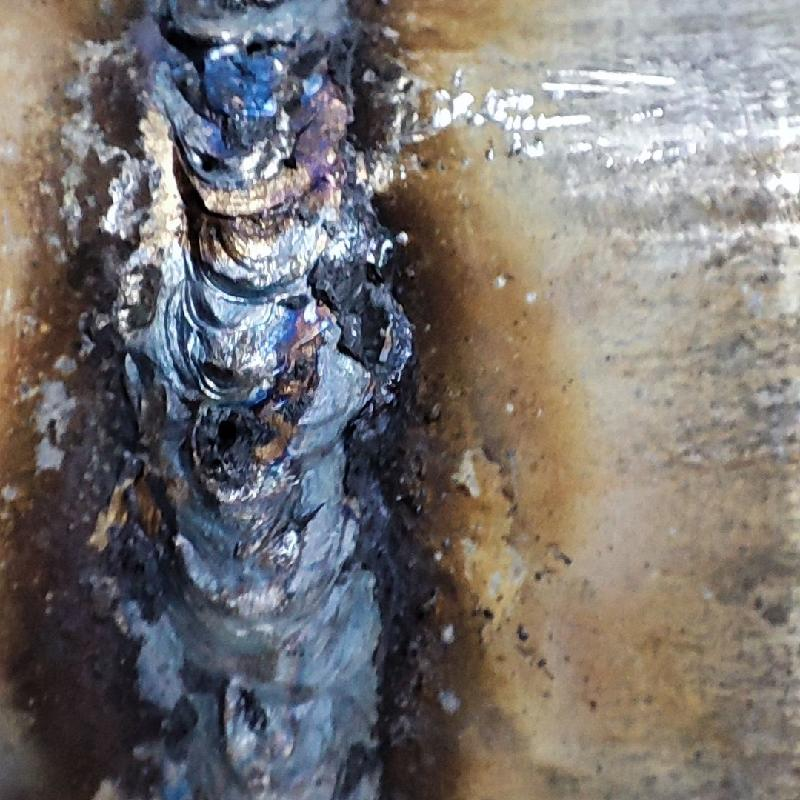Surface_pores: (192, 400, 265, 483), (184, 140, 238, 193), (272, 81, 315, 126), (268, 143, 313, 182), (233, 28, 278, 66)
